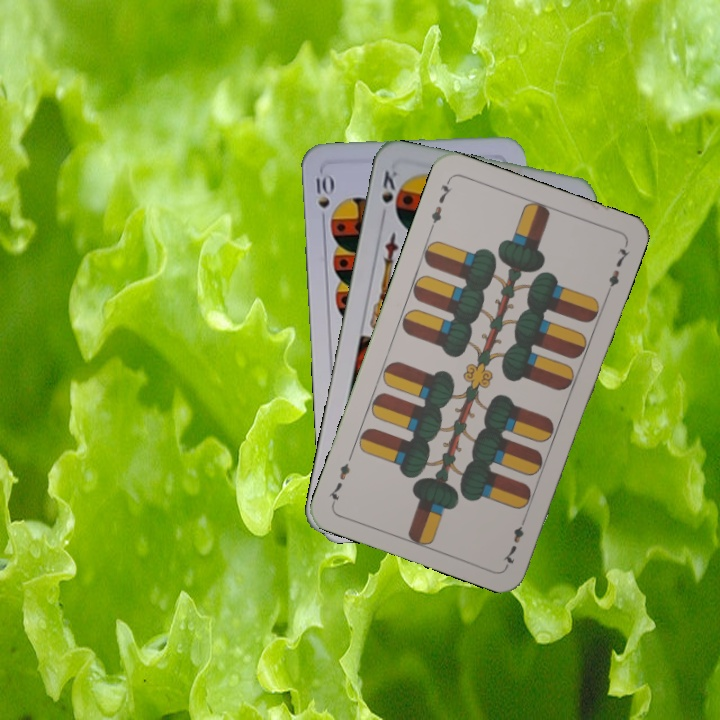E7: (498, 511, 530, 568), (426, 175, 454, 233)
S10: (311, 170, 335, 227)
SK: (377, 166, 403, 220)
